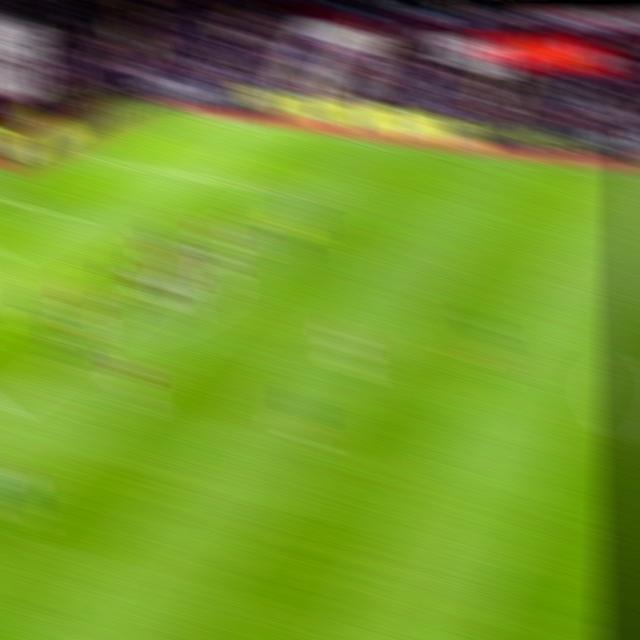bigarea_top_inner: (263, 178, 299, 202)
bigarea_top_outter: (70, 146, 105, 167)
bottom_arc_area_intersection: (67, 334, 101, 357)
corner: (156, 102, 194, 123)
smallarea_top_inner: (52, 203, 87, 226)
smallarea_top_outter: (0, 188, 18, 212)
top_arc_area_intersection: (189, 237, 223, 261)
